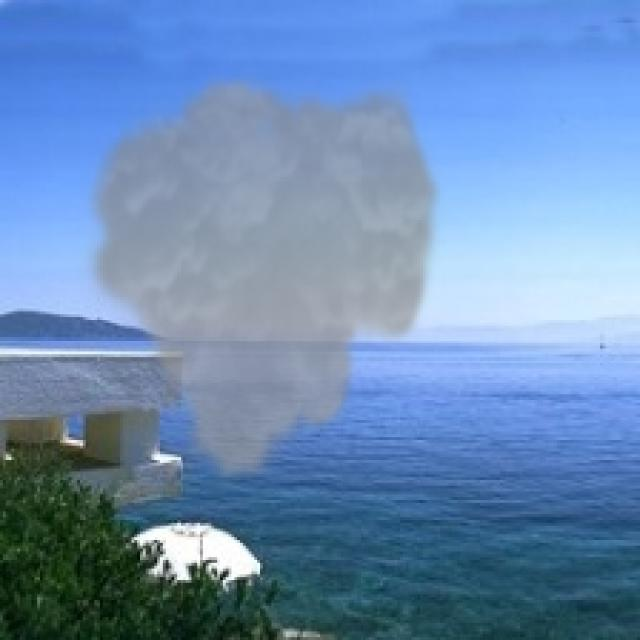smoke: (77, 71, 446, 492)
